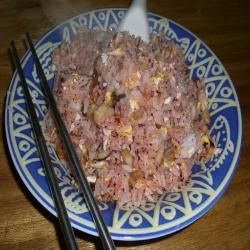rice: (51, 33, 212, 202)
